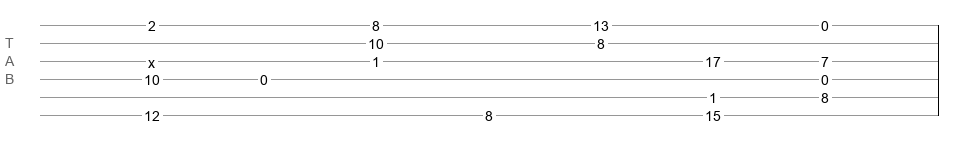0: (260, 72, 268, 82), (821, 18, 829, 28), (821, 72, 829, 82)
1: (372, 54, 380, 64), (709, 90, 717, 100)
10: (144, 72, 160, 82), (368, 36, 384, 46)
12: (144, 108, 160, 118)
13: (593, 18, 609, 28)
15: (705, 108, 721, 118)
17: (705, 54, 721, 64)
2: (148, 18, 156, 28)
7: (821, 54, 829, 64)
8: (372, 18, 380, 28), (485, 108, 493, 118), (597, 36, 605, 46), (821, 90, 829, 100)
x: (148, 55, 155, 63)
